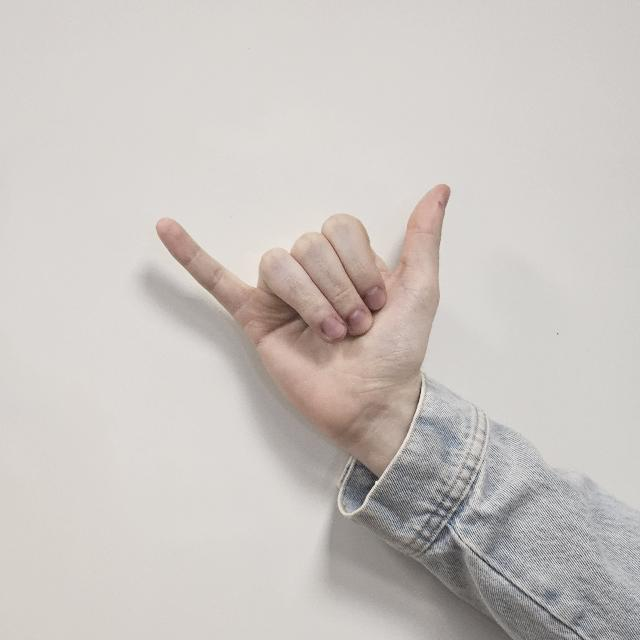Direita: (148, 167, 526, 495)
